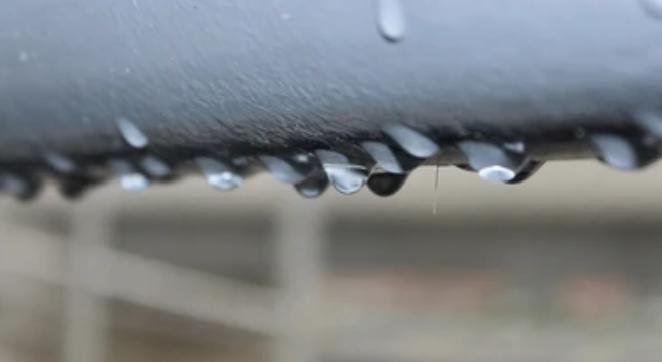water drop: (580, 126, 657, 170), (460, 137, 527, 184), (195, 158, 252, 189), (322, 153, 368, 190), (364, 141, 424, 169), (263, 153, 318, 182), (367, 168, 407, 195), (294, 171, 330, 196), (117, 163, 151, 188), (57, 174, 92, 197), (9, 177, 42, 200)
